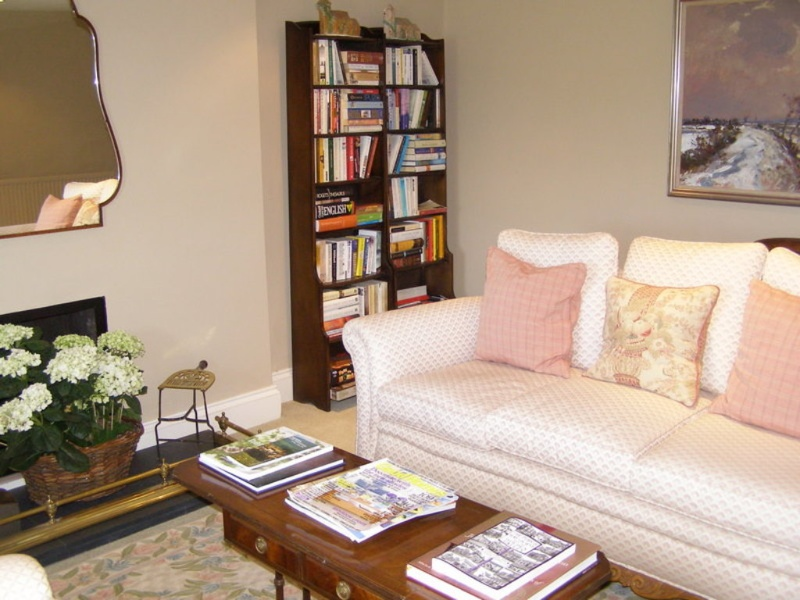book: (415, 508, 593, 600), (287, 458, 454, 535), (200, 423, 336, 488), (340, 49, 382, 73), (388, 133, 410, 174)
couch: (337, 224, 800, 484)
